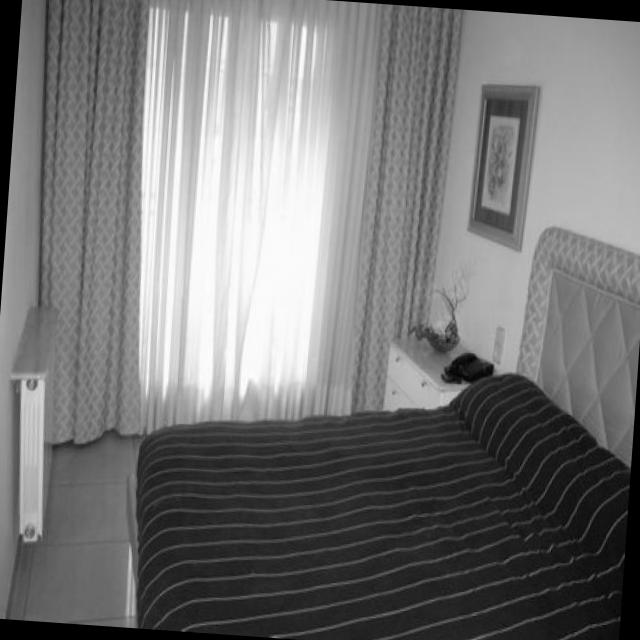bed -occluded-: (134, 227, 640, 640)
bedspread: (142, 381, 623, 640)
curtain crop: (136, 0, 381, 428)
drapery: (41, 0, 147, 443), (354, 10, 462, 406)
dresser: (389, 321, 497, 400)
floor: (25, 543, 125, 613)
floor -X: (8, 403, 598, 640)
headboard: (520, 244, 634, 450)
picture crop: (467, 79, 537, 247)
radiator occluded: (12, 306, 60, 540)
telephone booth: (441, 353, 483, 381)
wall clock: (412, 9, 640, 640)
